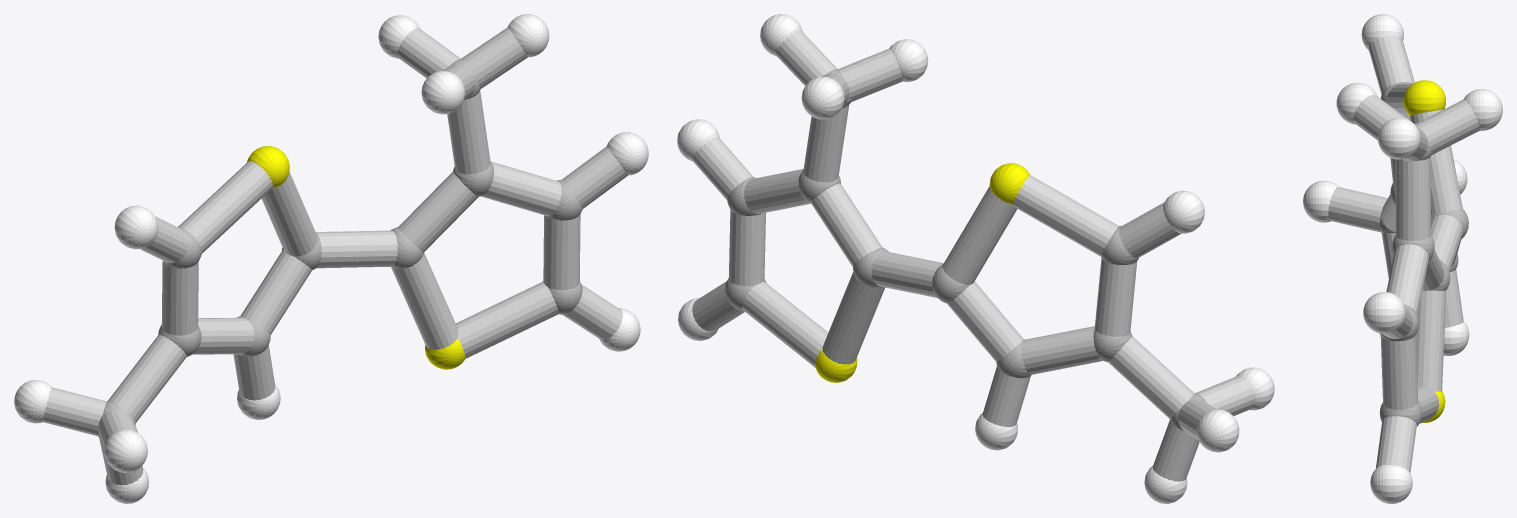
File: color.glb
3 views of the same model, side by side, from view 1: azimuth 30°, elevation 25°; view 2: azimuth 150°, elevation 25°; view 3: azimuth 270°, elevation 25° (orthographic). The views are drawn at different scales.
Parts seen in each view (by area): view 1: grp7965, grp3621, grp1, grp7241; view 2: grp7965, grp3621, grp1, grp7241; view 3: grp7965, grp3621, grp1, grp7241.
Part boxes in pixels (x1,y1,x2,y2): grp7965: (43, 27, 627, 485); grp3621: (14, 14, 648, 503); grp1: (98, 59, 582, 438); grp7241: (247, 146, 465, 369); grp7965: (692, 30, 1255, 481); grp3621: (677, 14, 1274, 503); grp1: (725, 69, 1206, 431); grp7241: (815, 163, 1029, 382); grp7965: (1328, 35, 1479, 472); grp3621: (1303, 14, 1502, 503); grp1: (1379, 82, 1468, 426); grp7241: (1403, 80, 1445, 422).
Bounding box in the file's own units: 9.45 × 5.95 × 2.83.
